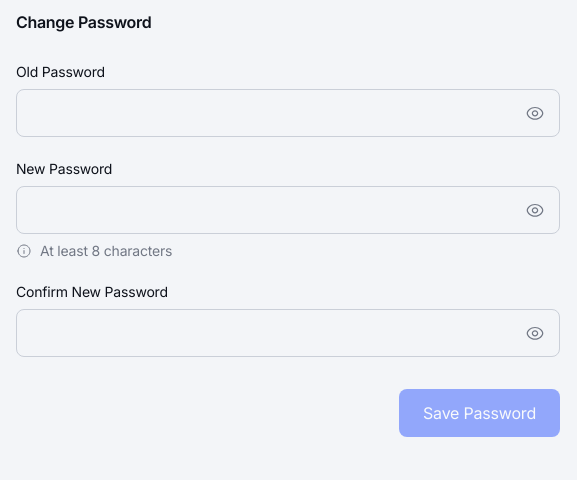
Test: ChangePasswordPage › shows an error when password confirmation does not match
This screenshot has width=577, height=480.
Type "old-password" into the password field labelled "Old Password".
click(264, 113); type("old-password")  # box x1=17 y1=101 x2=511 y2=125
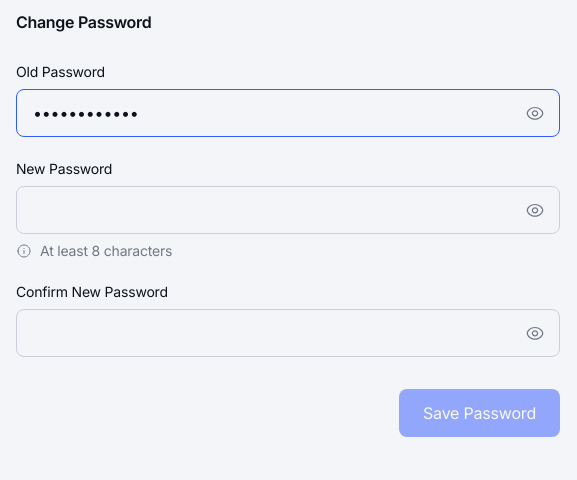
Type "new-password" into the password field labelled "New Password".
click(264, 210); type("new-password")  # box x1=17 y1=198 x2=511 y2=222
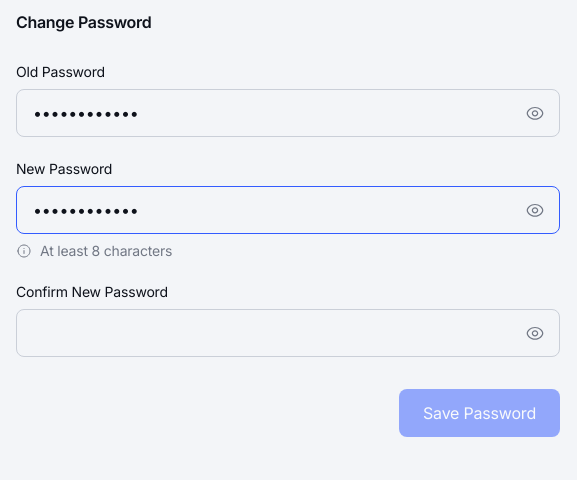
Type "different-password" into the password field labelled "Confirm New Password".
click(264, 333); type("different-password")  # box x1=17 y1=321 x2=511 y2=345
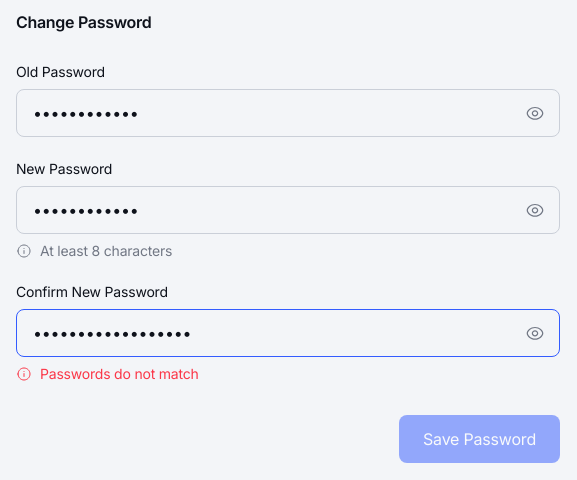
Expected: the button "Save Password" is disabled, x1=399 y1=415 x2=560 y2=463
Expected: the text "Passwords do not match" is shown, x1=16 y1=365 x2=199 y2=382
